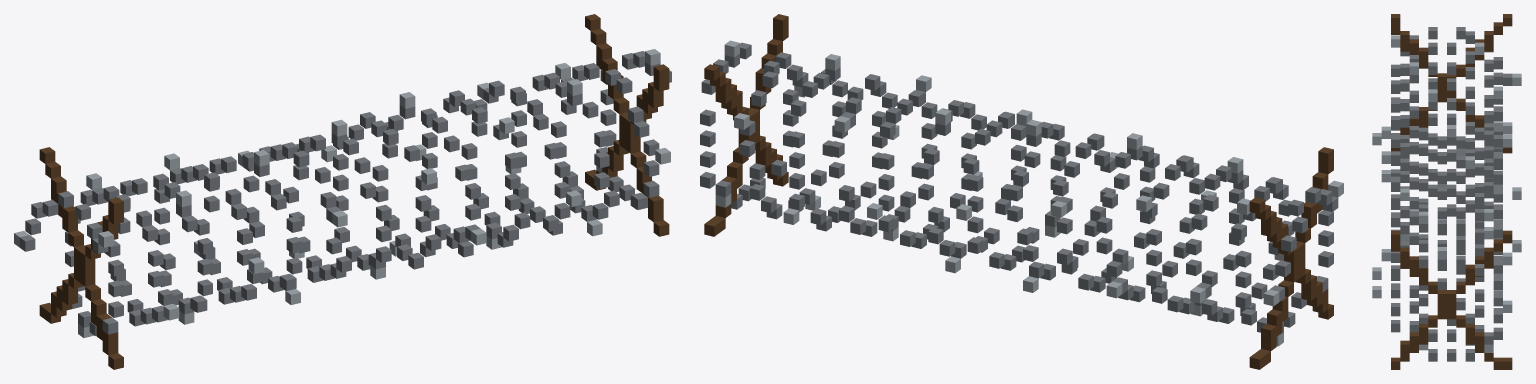
The model's file is prop_wire.glb.
3 views of the same model, side by side, from view 1: azimuth 30°, elevation 25°; view 2: azimuth 150°, elevation 25°; view 3: azimuth 270°, elevation 25° (orthographic). The views are drawn at different scales.
Visible parts, largest first — view 1: prop_wire; view 2: prop_wire; view 3: prop_wire.
Part boxes in pixels (bbox=[...]): prop_wire: bbox=[14, 14, 671, 369]; prop_wire: bbox=[700, 14, 1343, 369]; prop_wire: bbox=[1372, 14, 1521, 369].
Bounding box in the file's own units: 3 × 0.7999 × 0.7999.
